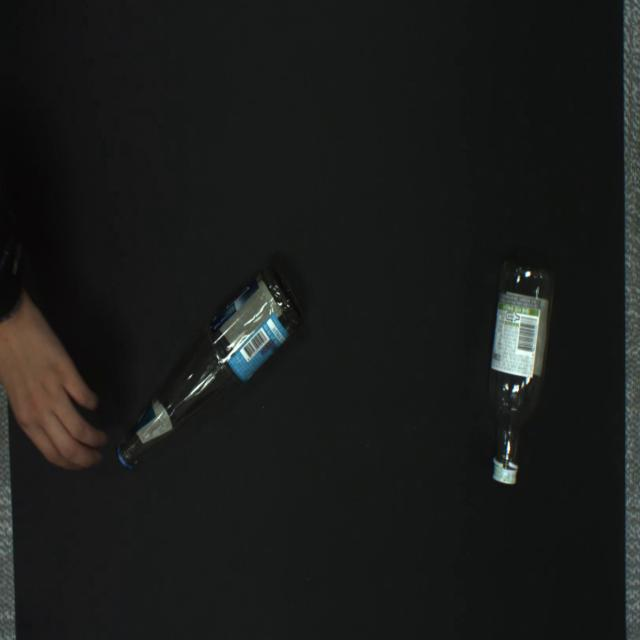beer-bottle: (117, 263, 302, 467)
soju-bottle: (488, 262, 554, 484)
